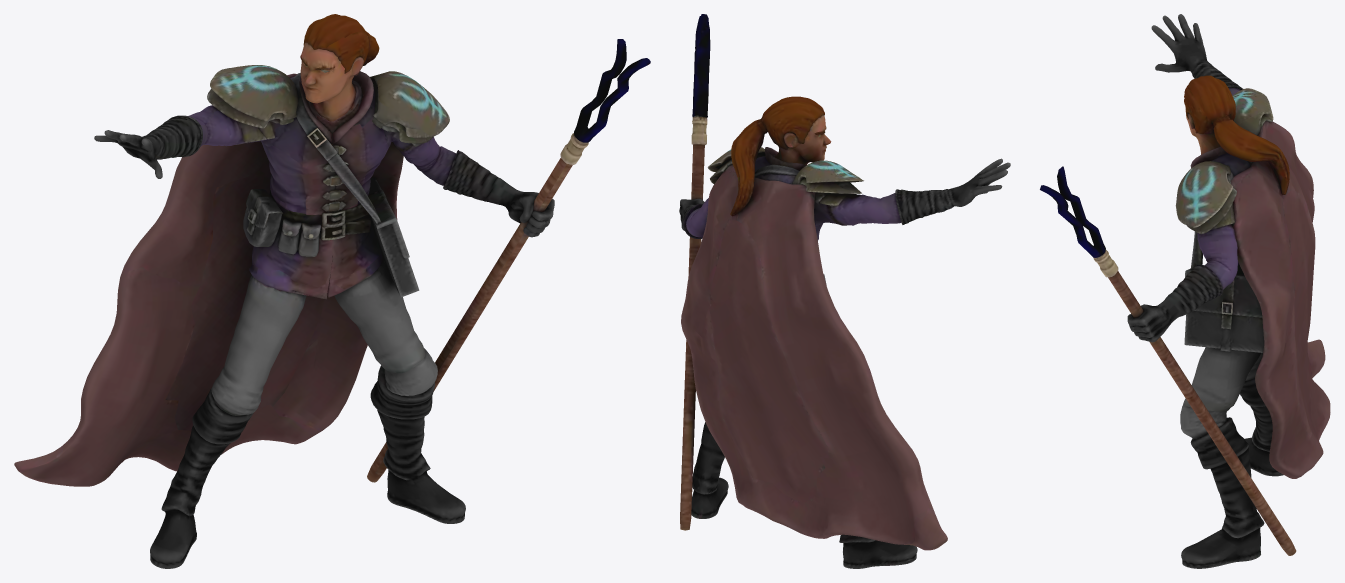
File: MZ4250 - Human Male Abjuration Wizard_4.glb
3 renders of one model, left to right at view 1: azimuth 30°, elevation 25°; view 2: azimuth 150°, elevation 25°; view 3: azimuth 270°, elevation 25°, orthographic. The views are drawn at different scales.
Visible parts, largest first — view 1: Buckle 2.001; view 2: Buckle 2.001; view 3: Buckle 2.001.
Part boxes in pixels (x1=…): Buckle 2.001: x1=14, y1=14, x2=650, y2=568; Buckle 2.001: x1=679, y1=14, x2=1010, y2=568; Buckle 2.001: x1=1040, y1=14, x2=1330, y2=568.
Bounding box in the file's own units: 82.44 × 86.99 × 52.37.
1 material, 1 textured.
